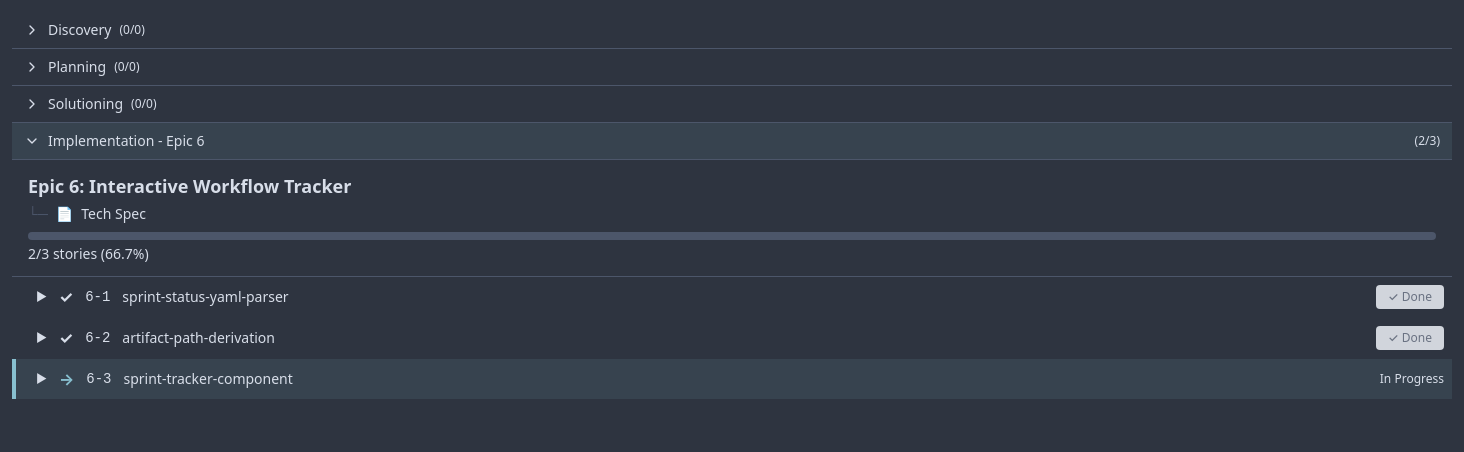
Test: PhaseOverview › Collapse/Expand Behavior › toggles phase section on header click
Click to expand
Click the button "Discovery (0/0)": {"x": 80, "y": 30} [12,12,1452,48]
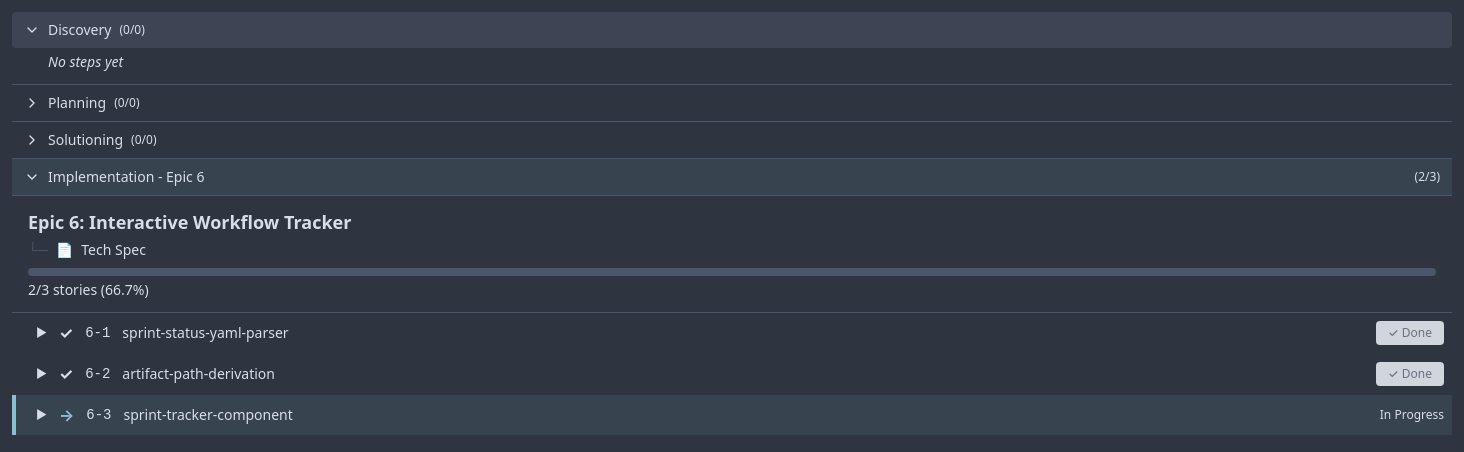
Result: the button "Discovery (0/0)" is expanded
Click again to collapse
Click the button "Discovery (0/0)": {"x": 80, "y": 30} [12,12,1452,48]
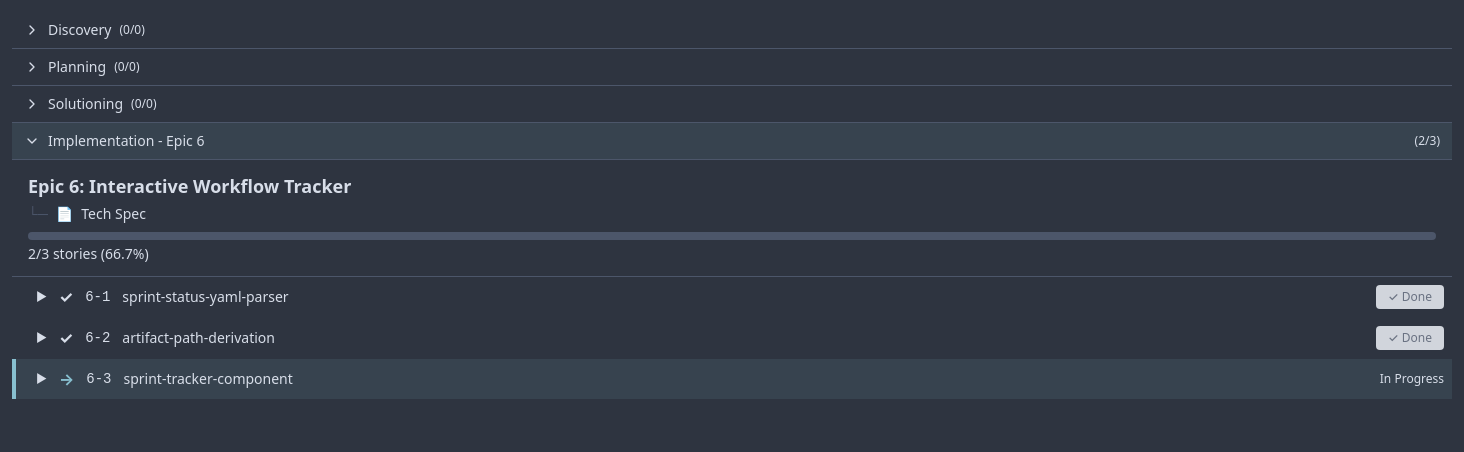
Result: the button "Discovery (0/0)" is collapsed at [12,12,1452,48]
